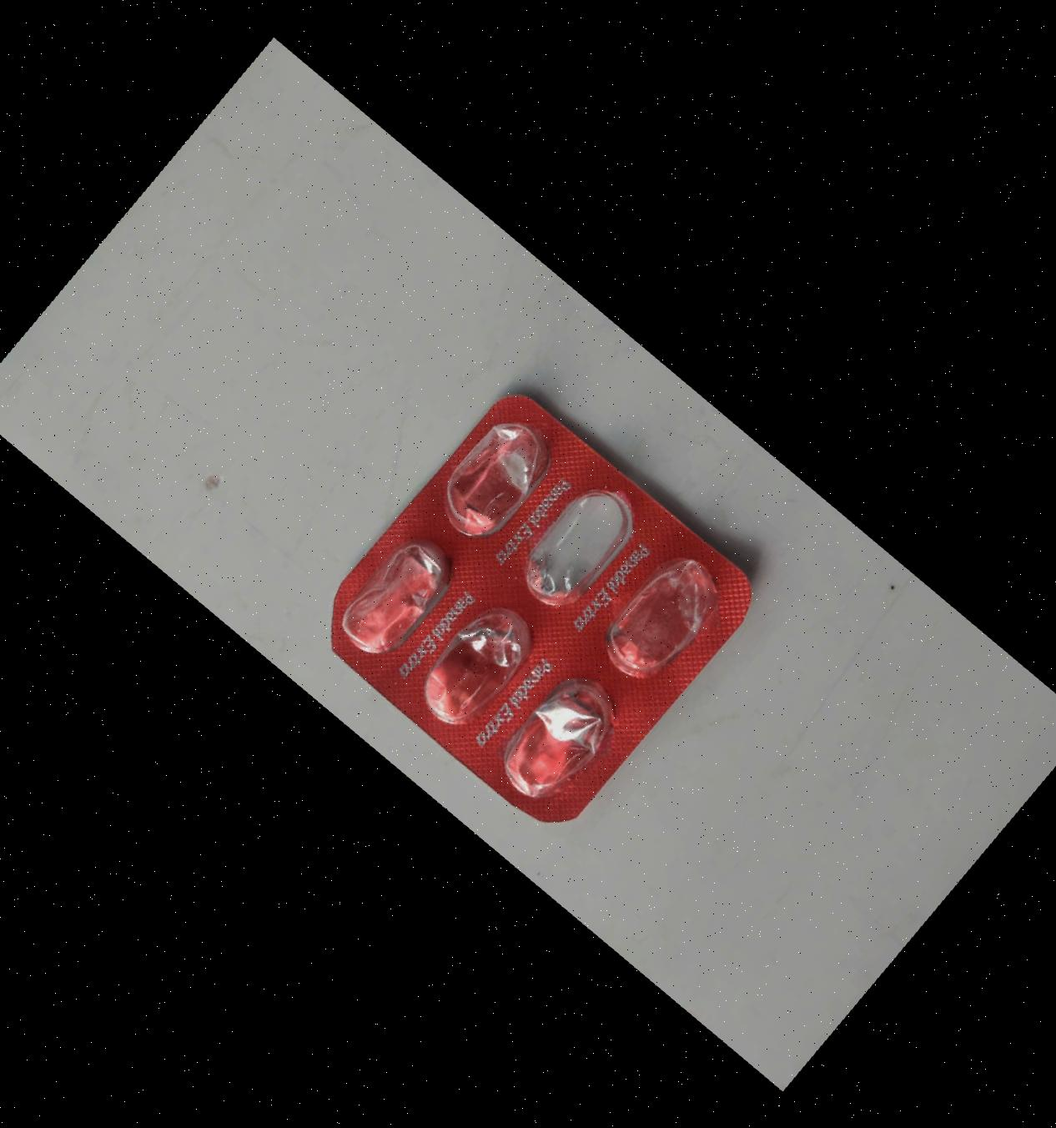Empty: (479, 658, 638, 822), (318, 515, 477, 679), (583, 537, 742, 701), (499, 467, 658, 631), (395, 584, 553, 748), (415, 399, 573, 563)
